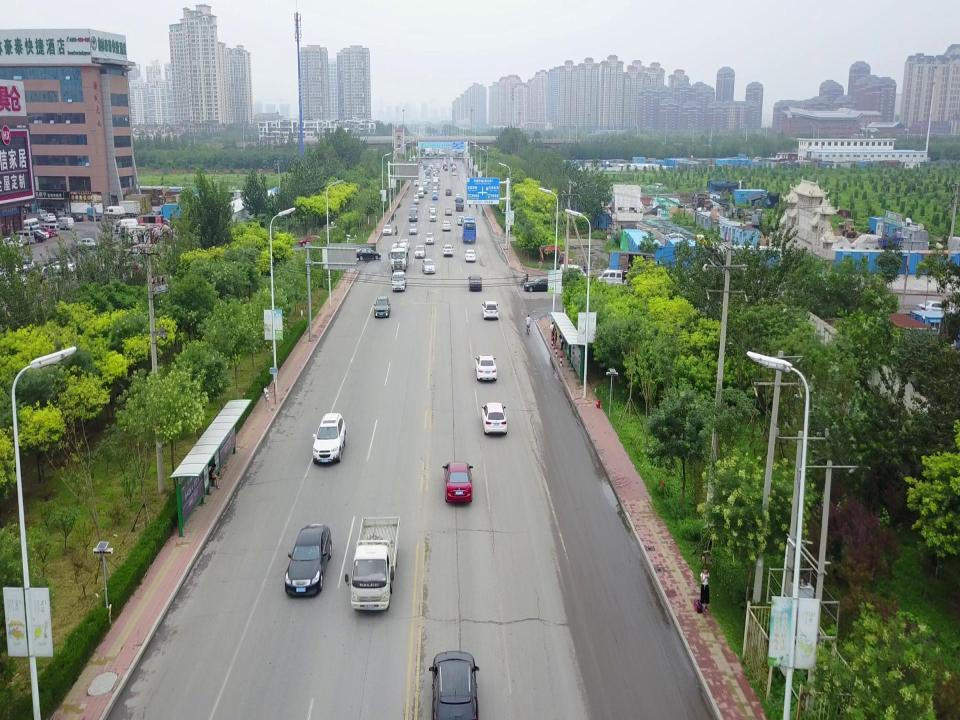bus: (460, 216, 477, 243)
car: (428, 649, 484, 720), (283, 522, 333, 598), (312, 413, 346, 464), (442, 461, 474, 504), (916, 300, 958, 322), (481, 402, 507, 436), (474, 355, 497, 381), (524, 276, 558, 292), (43, 260, 77, 275), (373, 295, 391, 318), (481, 300, 499, 321), (19, 230, 47, 243), (298, 234, 326, 247), (355, 247, 382, 260), (77, 237, 101, 251), (0, 236, 24, 248), (26, 229, 50, 241), (30, 227, 52, 239), (8, 234, 28, 246), (468, 274, 482, 290), (422, 259, 436, 274), (414, 244, 426, 259), (464, 248, 476, 262), (442, 244, 454, 257), (399, 239, 410, 252), (70, 212, 84, 222), (425, 232, 435, 245), (44, 212, 56, 222), (408, 223, 418, 235), (408, 210, 418, 222), (441, 220, 451, 231), (382, 224, 392, 235), (57, 211, 67, 221), (457, 215, 466, 226), (410, 204, 418, 213), (444, 207, 452, 215), (428, 204, 436, 212), (445, 188, 452, 195), (455, 193, 461, 201), (414, 179, 420, 187), (422, 186, 428, 194), (422, 179, 428, 187), (432, 187, 438, 194), (426, 176, 431, 183), (434, 179, 439, 186), (427, 166, 431, 171), (429, 163, 433, 168), (436, 167, 440, 172), (444, 166, 448, 171), (452, 171, 456, 175), (452, 165, 456, 169)
truck: (344, 515, 402, 613), (388, 241, 410, 273), (877, 236, 913, 252), (111, 201, 141, 217), (391, 270, 407, 291), (85, 207, 103, 221), (455, 197, 464, 212), (432, 177, 439, 189), (425, 169, 431, 178), (423, 163, 429, 170), (434, 171, 440, 177), (442, 164, 448, 170)
van: (558, 263, 587, 288), (597, 270, 631, 290), (113, 219, 139, 234), (10, 230, 36, 244), (36, 223, 60, 237), (20, 217, 40, 233), (104, 205, 126, 219), (54, 217, 74, 230), (38, 209, 48, 221), (429, 209, 437, 222), (418, 187, 424, 198), (432, 190, 438, 201), (413, 194, 419, 204), (433, 169, 437, 176), (436, 162, 440, 169)
